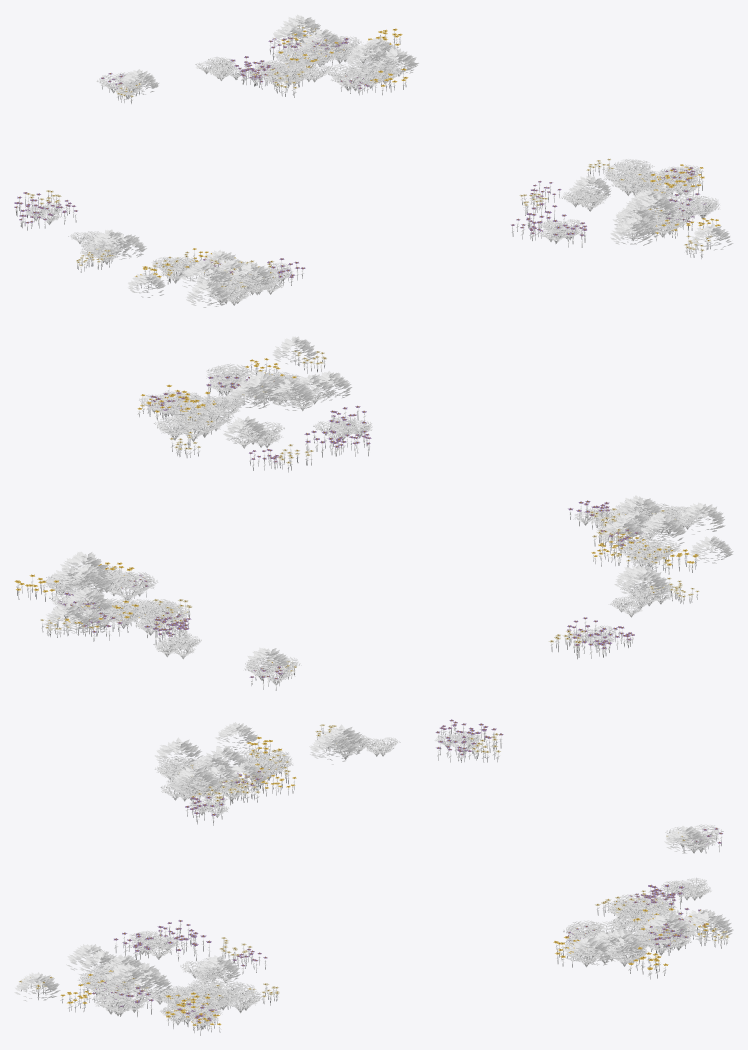
The model's file is SM_NW_Nature_0_3_Flora.fbx.
3 renders of one model, top to bottom at view 1: azimuth 30°, elevation 25°; view 2: azimuth 150°, elevation 25°; view 3: azimuth 270°, elevation 25°, orthographic. The views are drawn at different scales.
Visible parts, largest first — view 1: SM_NW_Nature_0_3_Flora; view 2: SM_NW_Nature_0_3_Flora; view 3: SM_NW_Nature_0_3_Flora.
Part boxes in pixels (<box>): SM_NW_Nature_0_3_Flora: <box>14,14,733,307</box>; SM_NW_Nature_0_3_Flora: <box>14,336,733,690</box>; SM_NW_Nature_0_3_Flora: <box>14,719,733,1035</box>.
Size of the model in its own units: 2545 by 2578 by 151.
